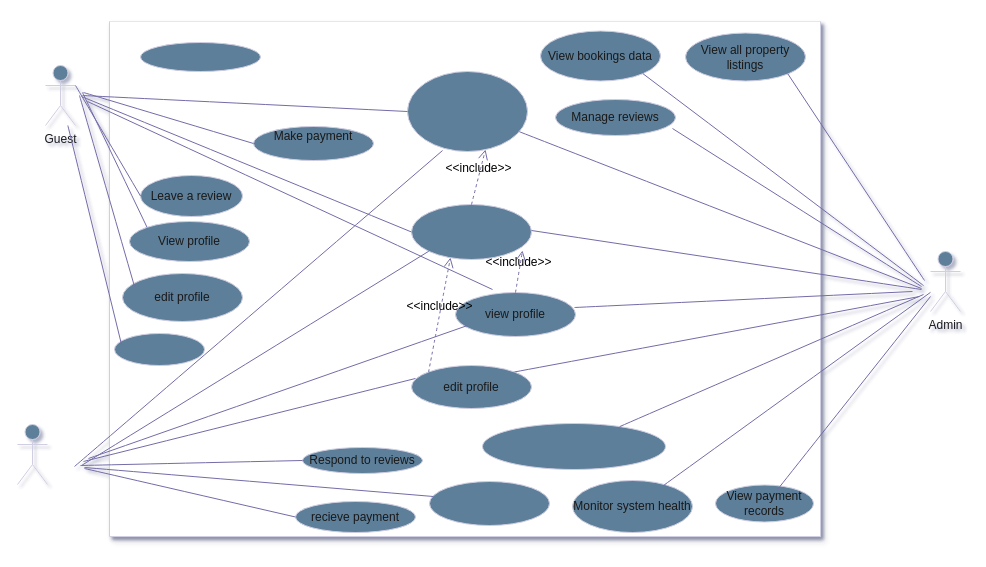
The diagram is 986 pixels wide and 567 high, and some of its shapes have lost their labels. The centre of each missing label's shape, as x and y in pixels:
Book property: the point at 200,57
Host: the point at 32,454
login: the point at 471,232
Register: the point at 467,111
Search properties: the point at 159,349
Send announcements/notifications: the point at 574,446
View earnings: the point at 489,503
